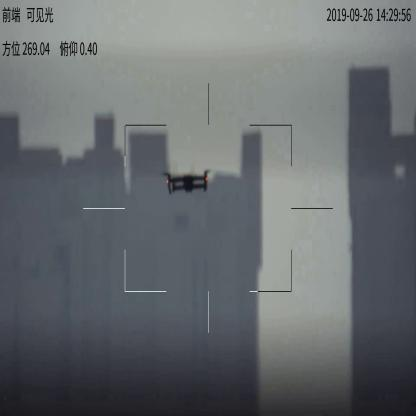uav: (160, 170, 212, 194)
